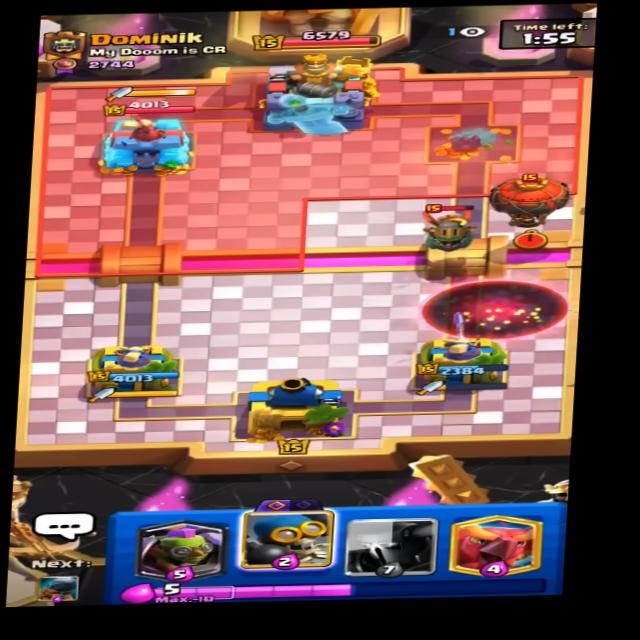balloon: (484, 172, 570, 229)
inferno-dragon: (403, 203, 491, 253)
